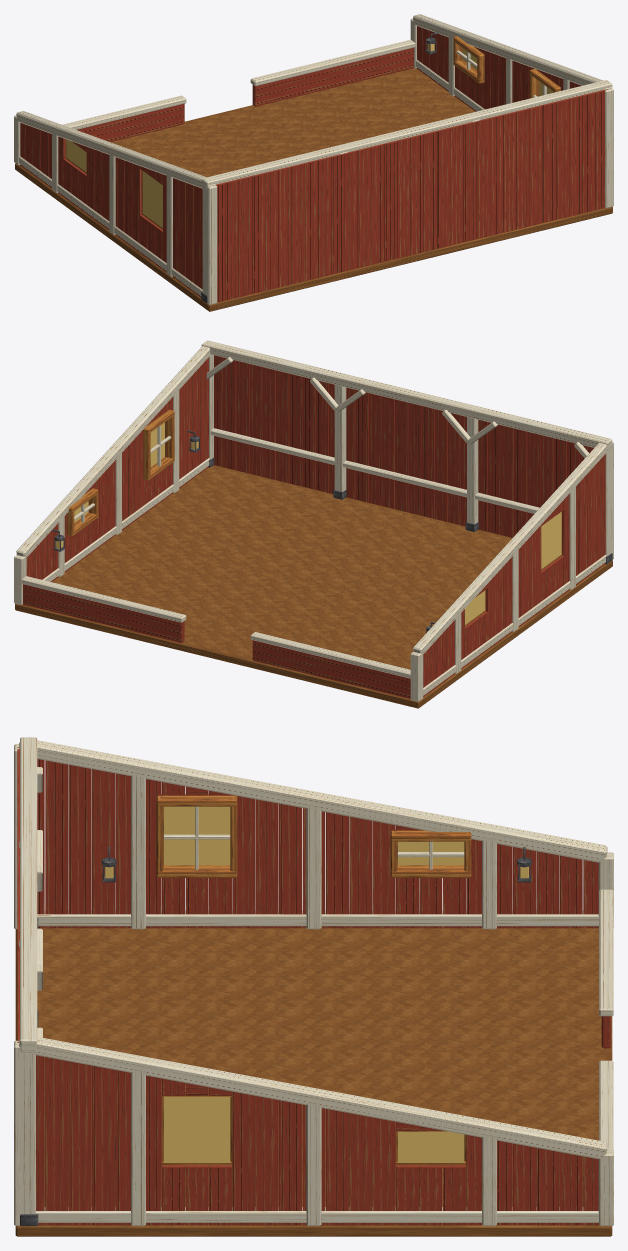
The model's file is BarnCozy_Architecture.fbx.
3 views of the same model, one above another, from view 1: azimuth 30°, elevation 25°; view 2: azimuth 150°, elevation 25°; view 3: azimuth 270°, elevation 25° (orthographic). The views are drawn at different scales.
Parts seen in each view (by area): view 1: BarnCozy_Architecture; view 2: BarnCozy_Architecture; view 3: BarnCozy_Architecture.
Boxes of the visible parts, left/top/right/bottom form: BarnCozy_Architecture: left=14, top=14, right=613, bottom=311; BarnCozy_Architecture: left=14, top=340, right=613, bottom=708; BarnCozy_Architecture: left=14, top=737, right=613, bottom=1236.
Bounding box in the file's own units: 12.29 × 3.74 × 10.26.
